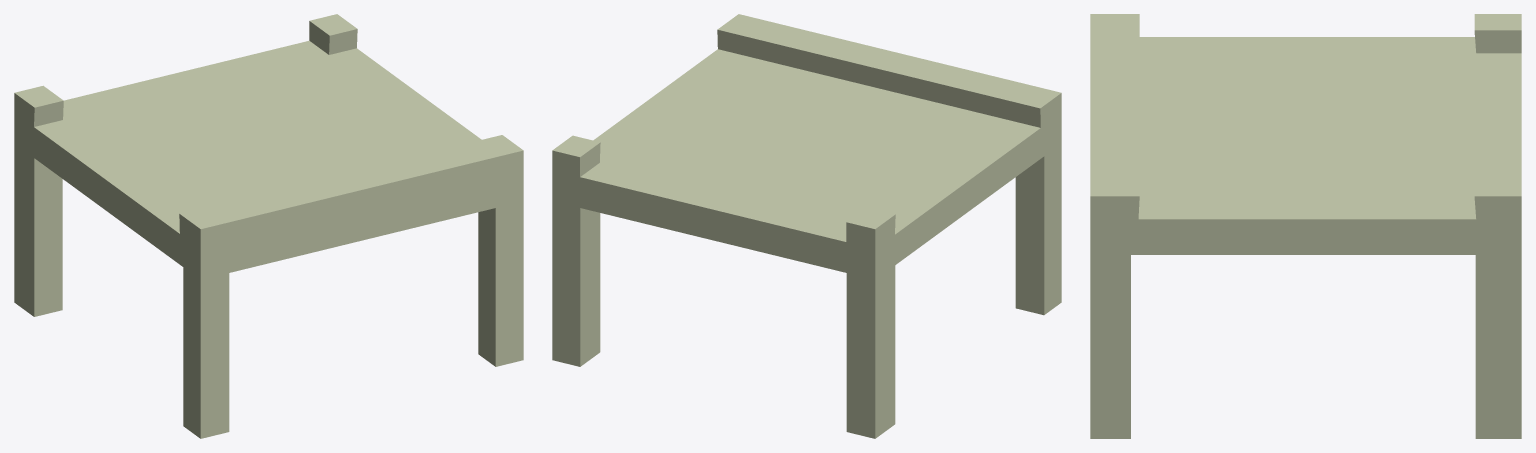
File: ConveyorT01.obj
The picture shows the model from 3 angles, left to right: view 1: azimuth 30°, elevation 25°; view 2: azimuth 150°, elevation 25°; view 3: azimuth 270°, elevation 25°; orthographic projection. The views are drawn at different scales.
Parts seen in each view (by area): view 1: Cube4_copy14; view 2: Cube4_copy14; view 3: Cube4_copy14.
Boxes of the visible parts, x1=… form: Cube4_copy14: x1=14, y1=14, x2=523, y2=438; Cube4_copy14: x1=552, y1=14, x2=1061, y2=438; Cube4_copy14: x1=1090, y1=14, x2=1521, y2=438.
Bounding box in the file's own units: 1 × 0.6205 × 1.
